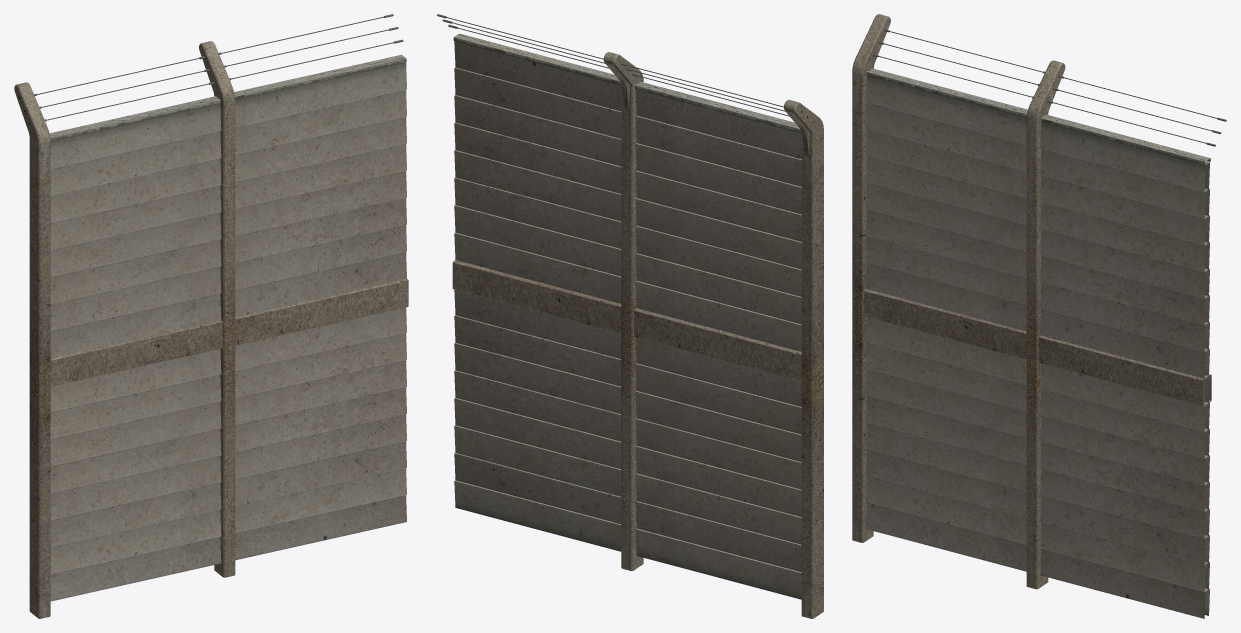
File: object_29.003_lev2.glb
3 views of the same model, side by side, from view 1: azimuth 30°, elevation 25°; view 2: azimuth 150°, elevation 25°; view 3: azimuth 330°, elevation 25° (orthographic). The views are drawn at different scales.
Parts seen in each view (by area): view 1: object_29.003_lev2; view 2: object_29.003_lev2; view 3: object_29.003_lev2.
Part boxes in pixels (bbox=[...]): object_29.003_lev2: bbox=[14, 14, 408, 618]; object_29.003_lev2: bbox=[437, 14, 823, 618]; object_29.003_lev2: bbox=[852, 14, 1226, 618].
Bounding box in the file's own units: 6.06 × 8.14 × 0.9635.
Materials: 1 (1 with a texture image).
